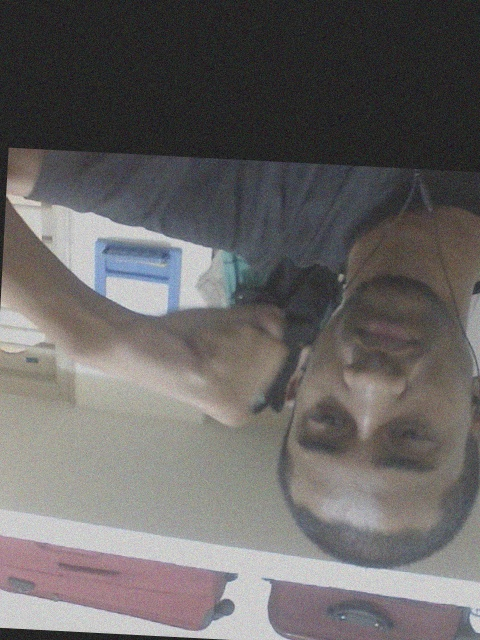hand: (130, 298, 290, 433)
